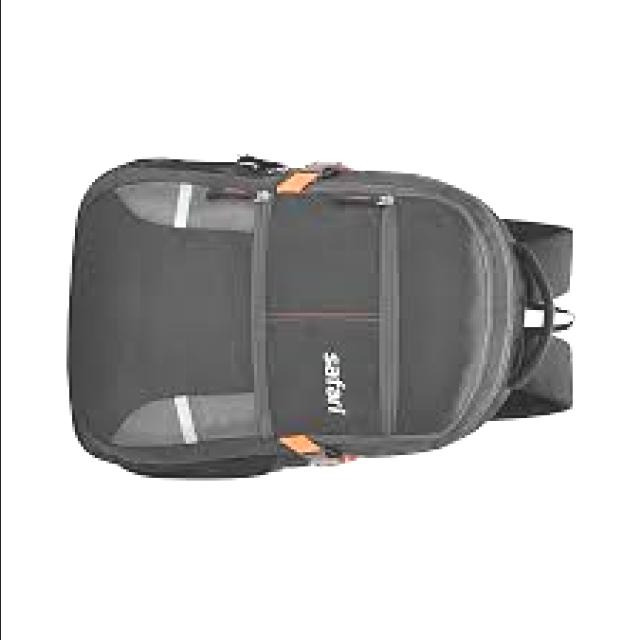backpack: (70, 155, 579, 482)
